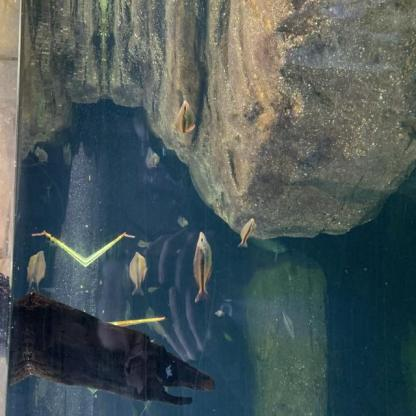fish: (192, 229, 216, 305), (174, 98, 198, 137), (24, 251, 48, 290), (234, 215, 259, 250), (128, 252, 147, 296), (281, 307, 299, 344), (145, 146, 160, 168), (62, 141, 73, 166)
